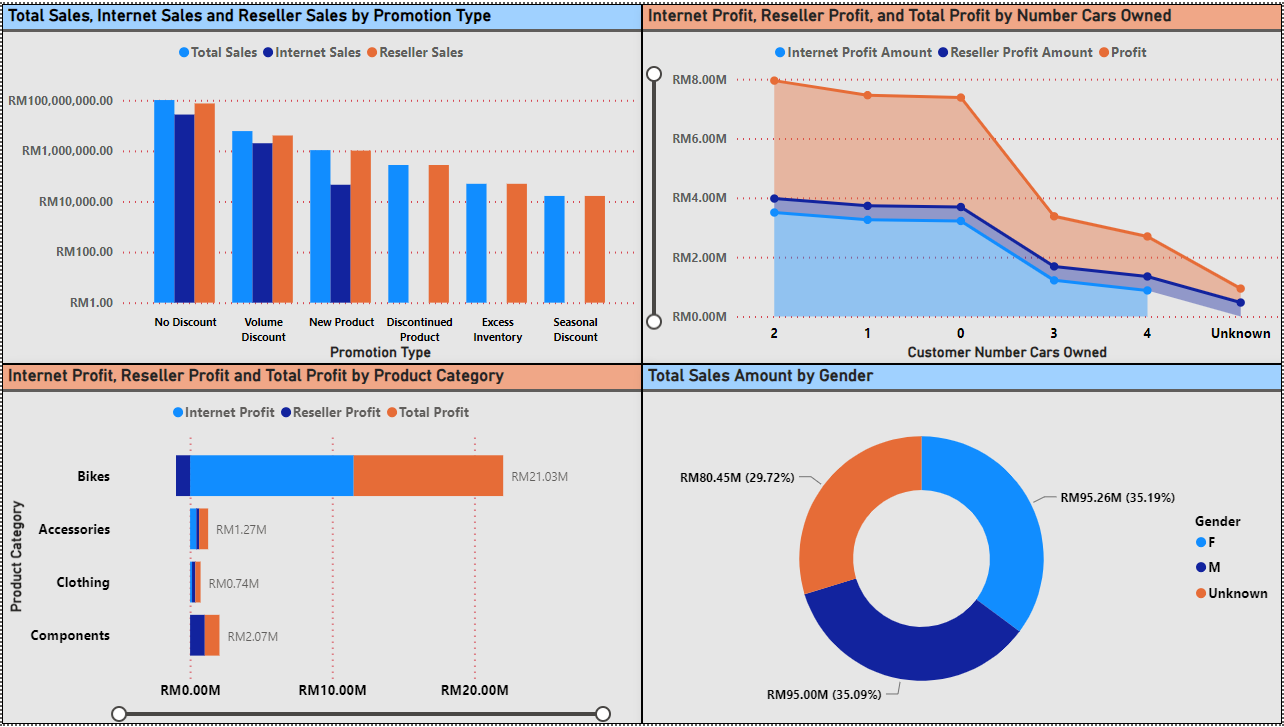

Layout of this report page (visuals, bound fields, positions):
{"tool":"powerbi","page":{"name":"Profit and Sales Overview","canvas":[1280,720],"ordinal":1},"visuals":[{"type":"clusteredColumnChart","fields":{"Category":["Dim Promotion 1.English Promotion Type"],"Y":["Measures.Total sales amount","Fact Internet Sales.Sales Amount","Fact Reseller Sales.Sales Amount - Fact Reseller Sales"]},"box":[0,0,640.4,360.4],"z":0},{"type":"stackedAreaChart","title":"Internet Profit, Reseller Profit, and Total Profit by Number Cars Owned","fields":{"Category":["Dim Customer 1.Number Cars Owned"],"Y":["Measures.Internet Profit Amount","Measures.Reseller Profit Amount","Measures.Profit"]},"box":[640.4,0,639.5,360.4],"z":1000},{"type":"barChart","fields":{"Category":["Dim Product 1.English Product Category Name"],"Y":["Measures.Internet Profit Amount","Measures.Reseller Profit Amount","Measures.Profit"]},"box":[0,360,640,360],"z":2000},{"type":"donutChart","title":"Total Sales Amount by Gender","fields":{"Category":["Dim Customer 1.Gender"],"Y":["Measures.Total sales amount"]},"box":[640.4,360.4,639.5,359.6],"z":3000}]}

Visuals, with their boxes in screenshot pixels (x1, y1, x2, y2), scaled from the page's 1280x720 canvas onto the 1284x727 screenshot:
clusteredColumnChart - Dim Promotion 1.English Promotion Type x Measures.Total sales amount: (left=0, top=0, right=642, bottom=364)
"Internet Profit, Reseller Profit, and Total Profit by Number Cars Owned" stackedAreaChart: (left=642, top=0, right=1283, bottom=364)
barChart - Dim Product 1.English Product Category Name x Measures.Internet Profit Amount: (left=0, top=364, right=642, bottom=726)
"Total Sales Amount by Gender" donutChart: (left=642, top=364, right=1283, bottom=726)
